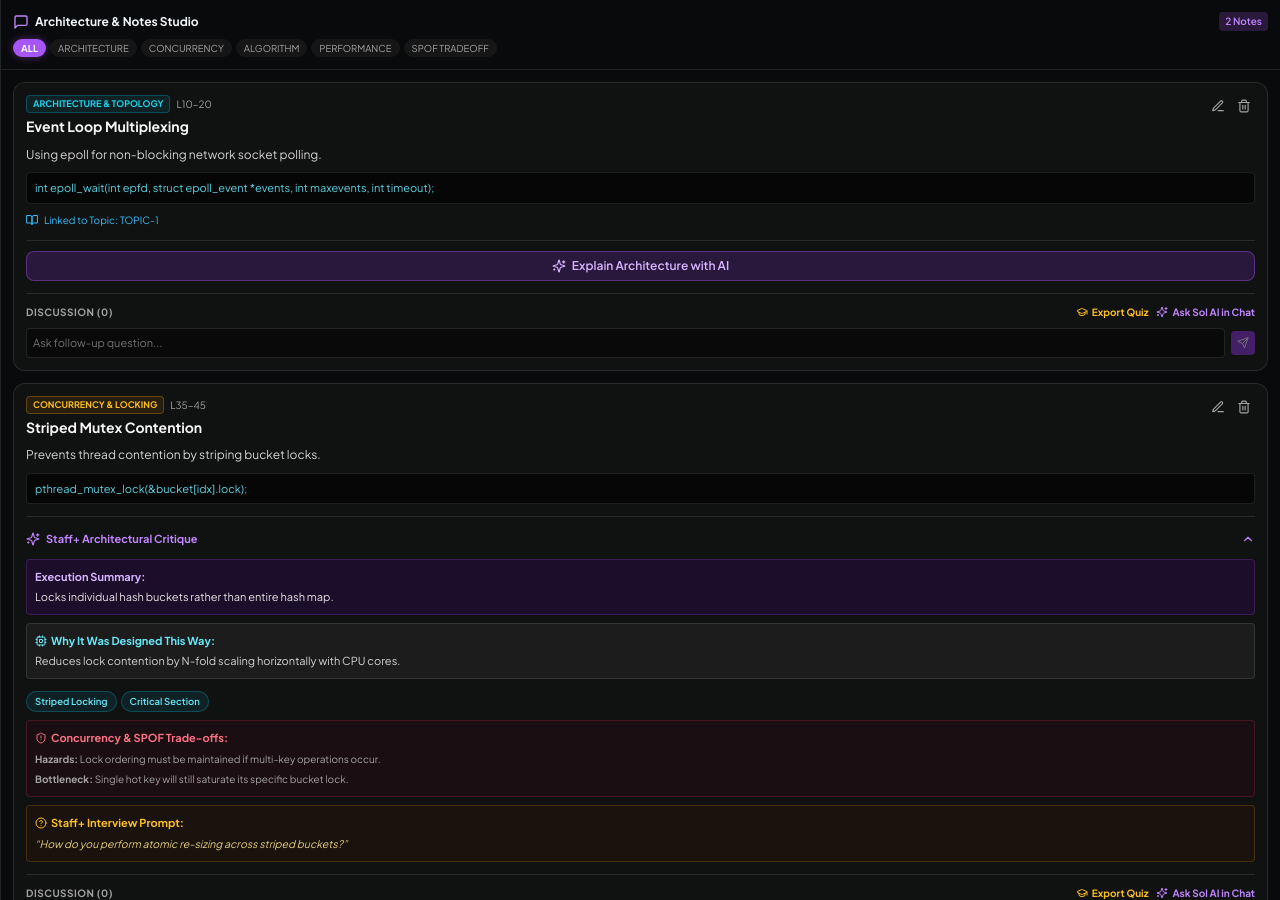
Test case: AnnotationDock › exports annotation to spaced repetition quiz on export quiz click
What coordinates should you click on to do the following:
click the button with test id "export-quiz-btn-ANN-101"
I would click on:
 (1112, 312)
Its box is [1076,304,1148,320].
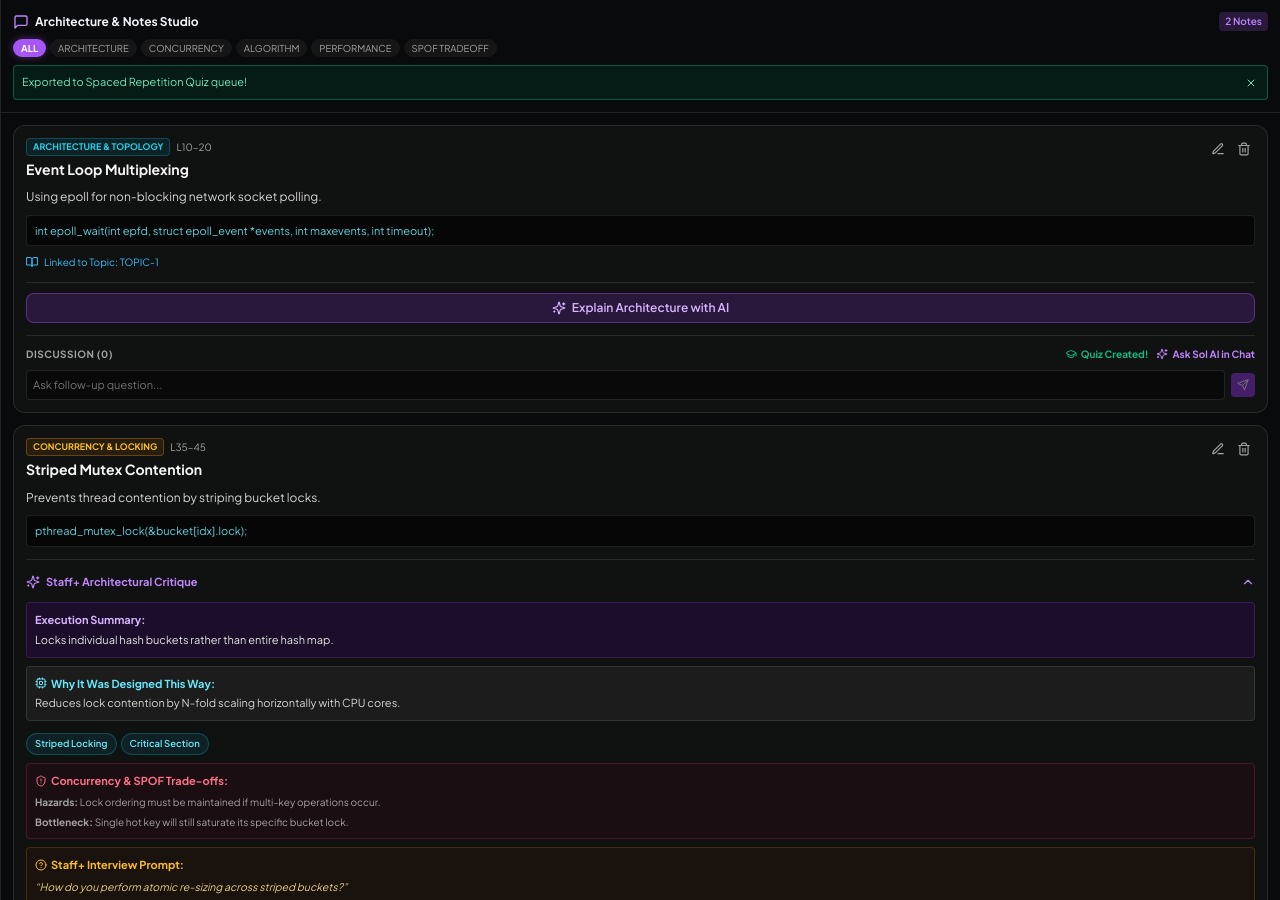
Check: the text "Quiz Created!" is shown, box [1081,346,1148,362]
